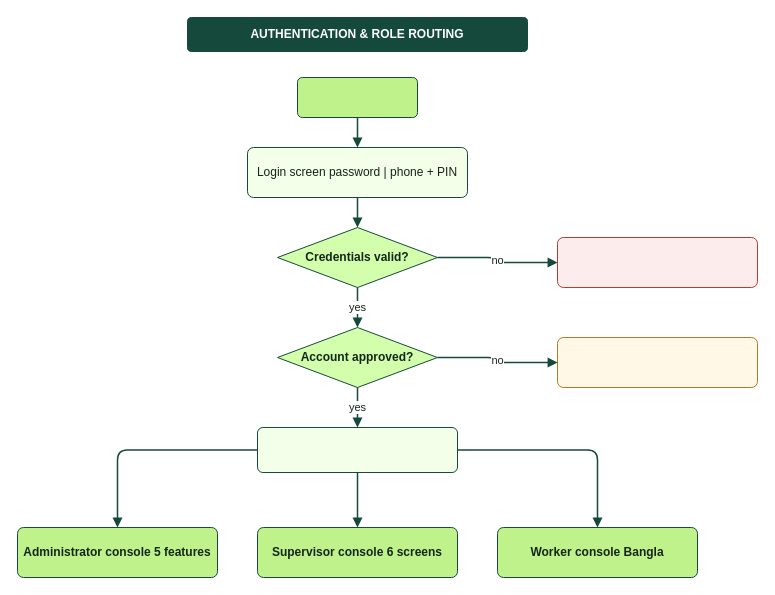
Some shapes in this 775 by 595 pixel diagram are drawn without their labels. The shapes that lost their labels are listed below. From the top down, each one's centre as x and y in pixels, then its label:
At [357,97]: "Start".
At [657,262]: "Error message (attempt rate limited)".
At [657,362]: "Awaiting office approval".
At [357,449]: "Issue JWT (HS384, 24h) resolve role".
